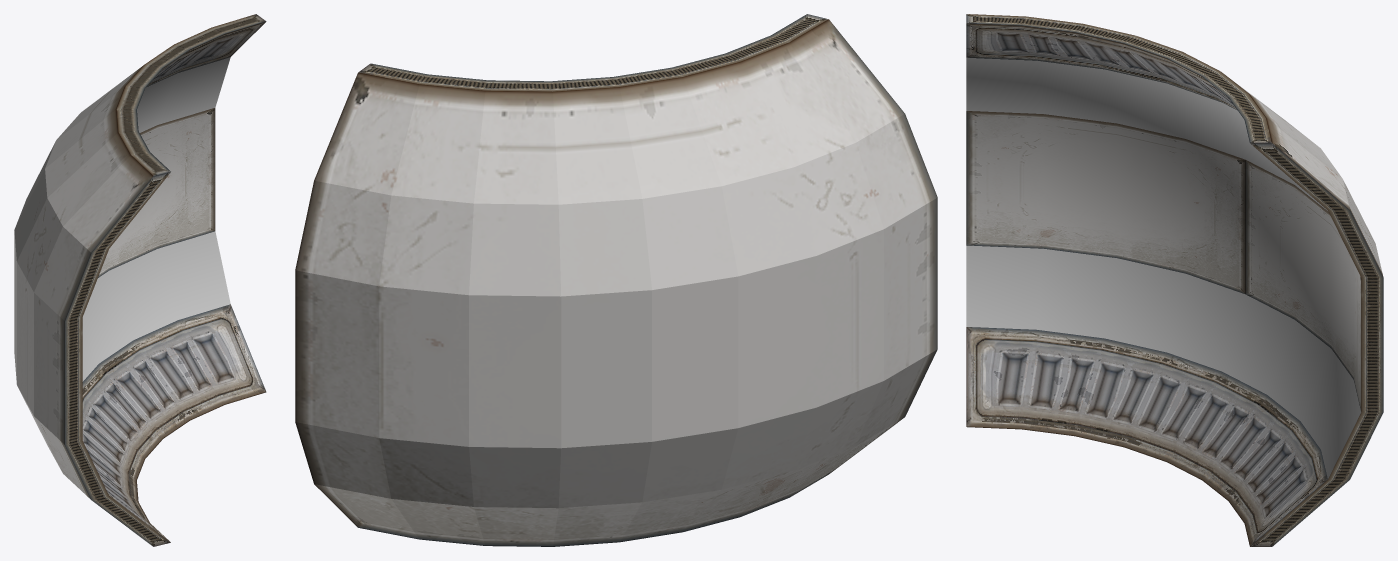
The model's file is scifi_wall_big_curve2_2.FBX.
3 views of the same model, side by side, from view 1: azimuth 30°, elevation 25°; view 2: azimuth 150°, elevation 25°; view 3: azimuth 270°, elevation 25° (orthographic). The views are drawn at different scales.
Visible parts, largest first — view 1: Plane171; view 2: Plane171; view 3: Plane171.
Part boxes in pixels (box(x1,y1,x2,y2)): Plane171: box(14, 14, 266, 546); Plane171: box(295, 14, 937, 546); Plane171: box(966, 14, 1383, 546).
Size of the model in its own units: 476 by 508 by 476.
